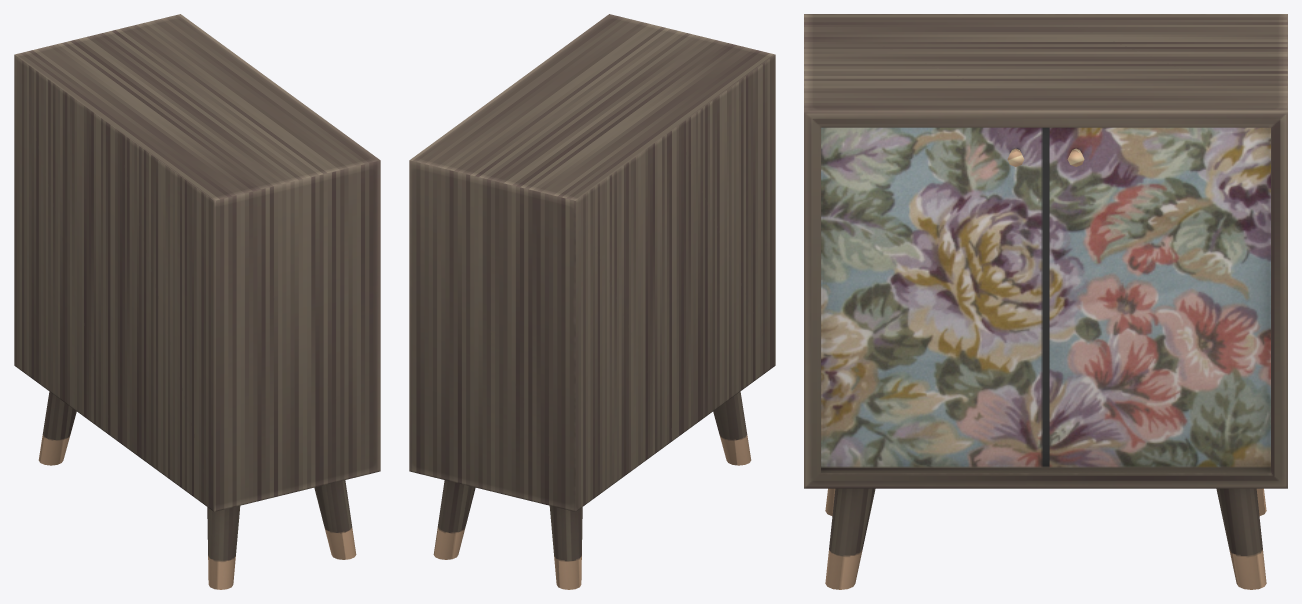
The model's file is cabinet.glb.
The picture shows the model from 3 angles, left to right: view 1: azimuth 30°, elevation 25°; view 2: azimuth 150°, elevation 25°; view 3: azimuth 270°, elevation 25°; orthographic projection. The views are drawn at different scales.
Parts seen in each view (by area): view 1: Cube.003_4; view 2: Cube.003_4; view 3: Cube.003_4.
Boxes of the visible parts, left/top/right/bottom form: Cube.003_4: left=14, top=14, right=380, bottom=589; Cube.003_4: left=409, top=14, right=775, bottom=589; Cube.003_4: left=804, top=14, right=1287, bottom=589.
Size of the model in its own units: 0.3698 by 0.85 by 0.7699.
Materials: 1 (1 with a texture image).
